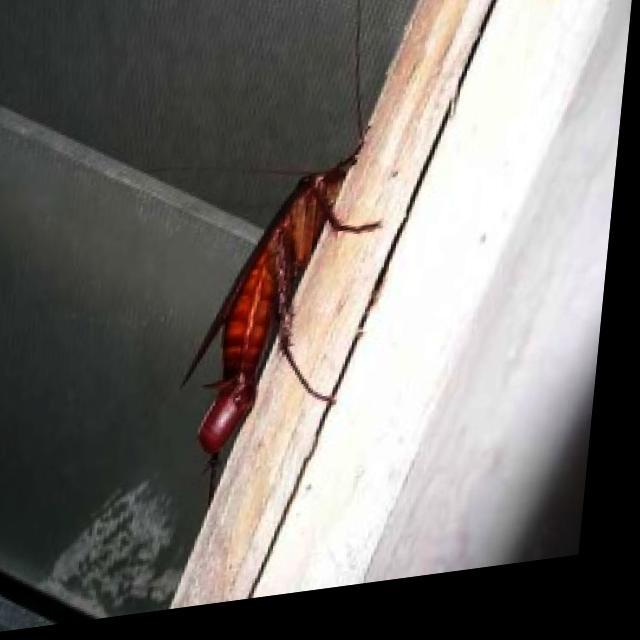cockroach: (176, 151, 386, 474)
